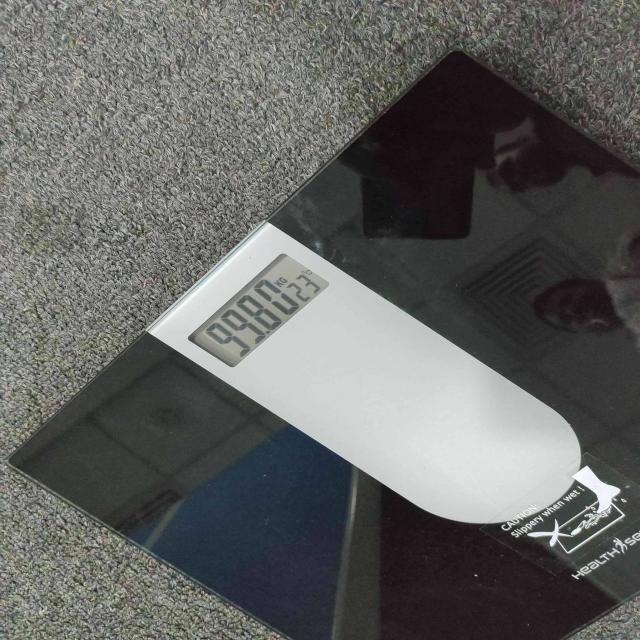ws: (190, 253, 336, 368)
